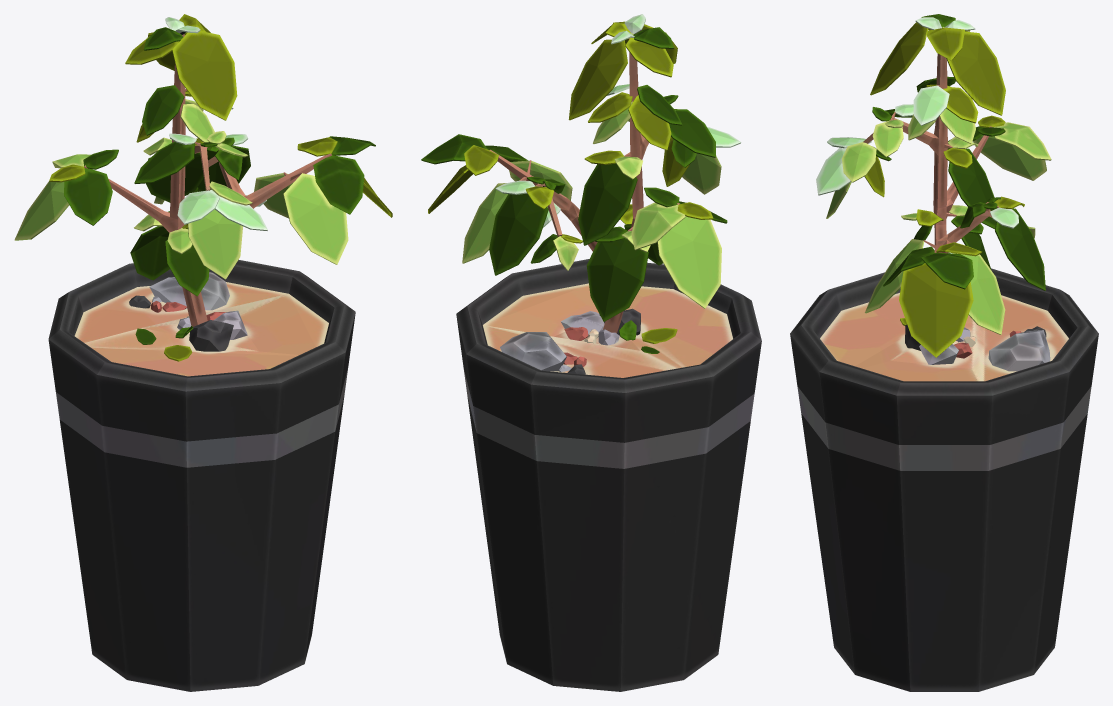
File: FlowerPot.glb
The picture shows the model from 3 angles, left to right: view 1: azimuth 30°, elevation 25°; view 2: azimuth 150°, elevation 25°; view 3: azimuth 270°, elevation 25°; orthographic projection.
Visible parts, largest first — view 1: Vase; view 2: Vase; view 3: Vase.
Part boxes in pixels (x1,y1,x2,y2): Vase: (14,14,392,691); Vase: (421,14,761,691); Vase: (790,14,1098,691).
Bounding box in the file's own units: 0.1305 × 0.2385 × 0.1081.
Materials: 1 (1 with a texture image).
